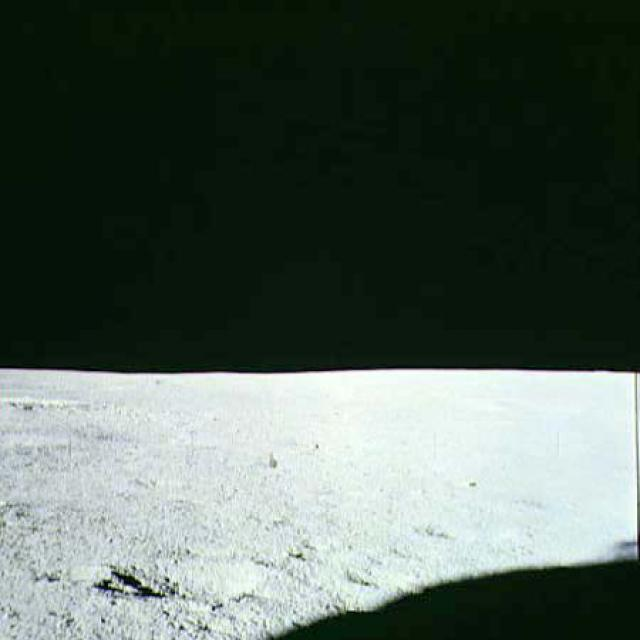crater: (104, 538, 276, 616), (401, 511, 486, 553)
